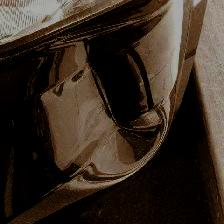bumper_dent: (25, 32, 173, 179)
